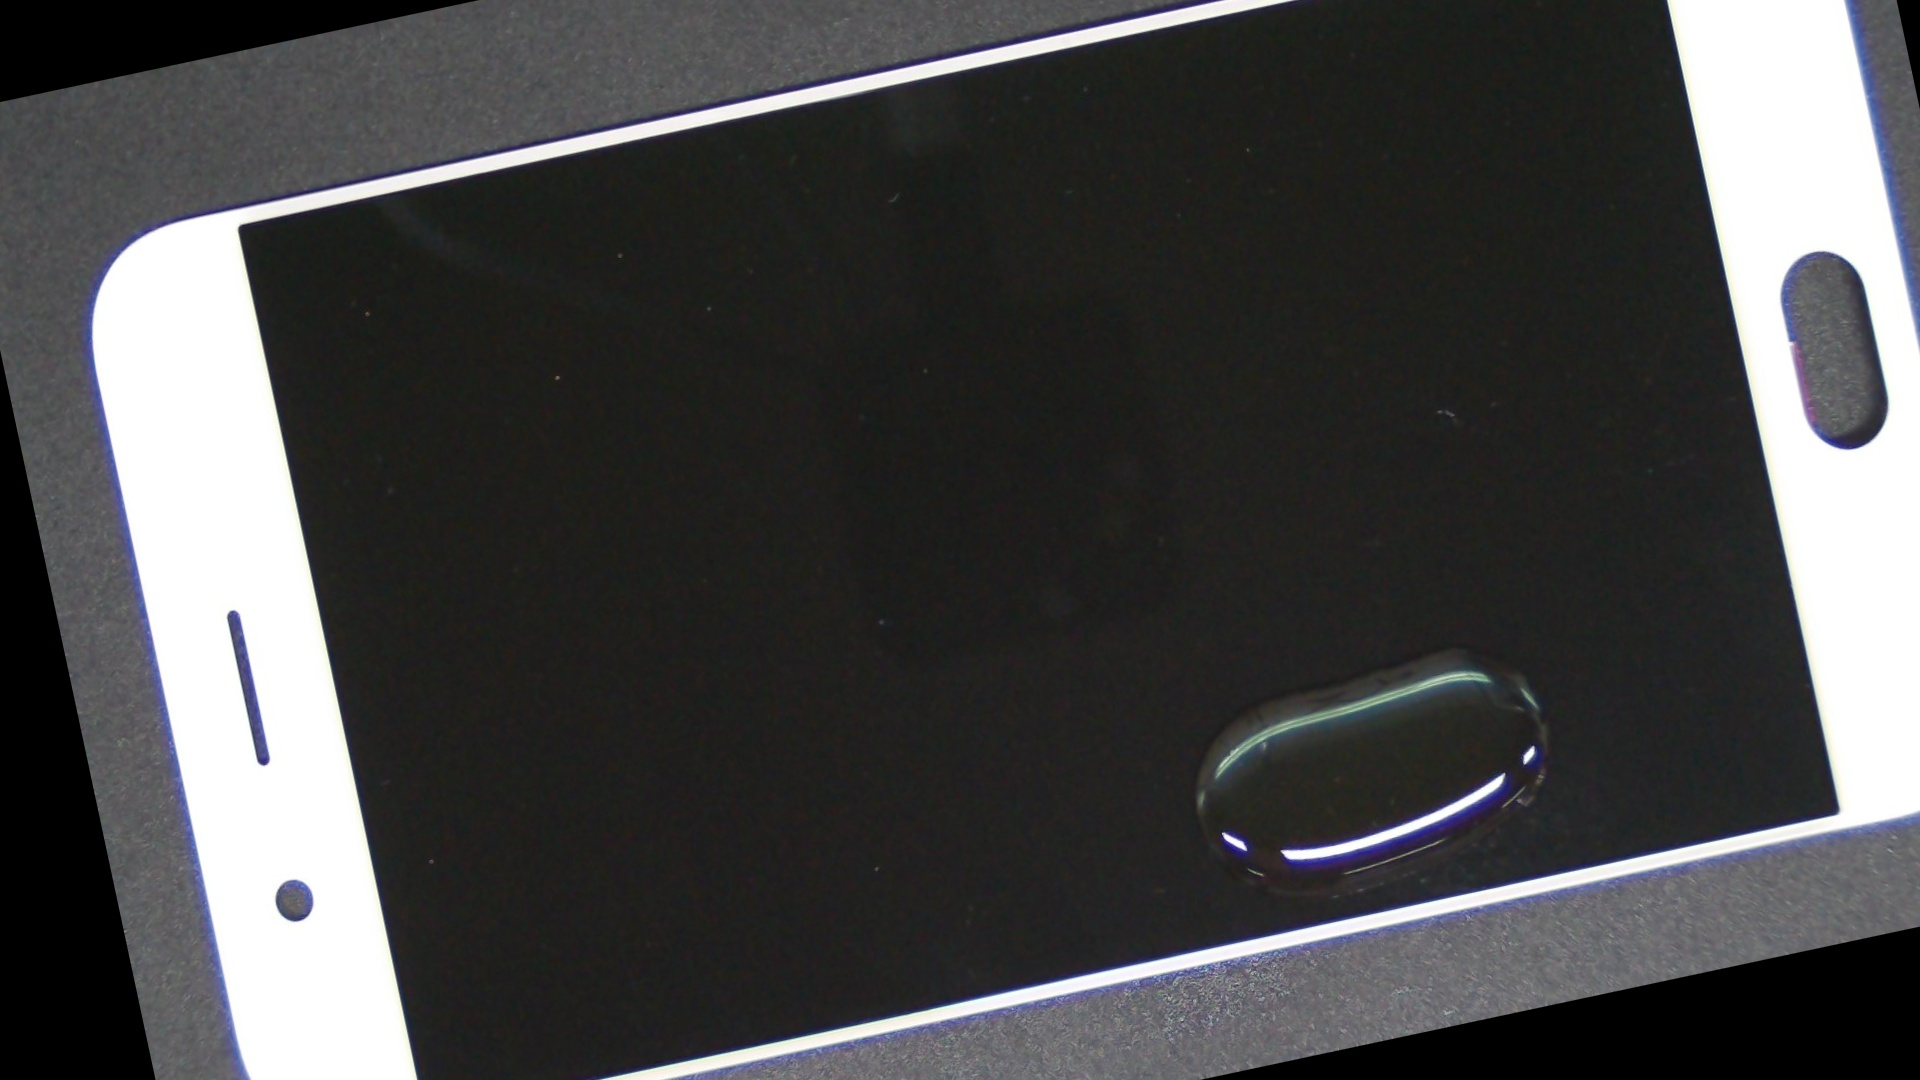oil: (698, 119, 1920, 1080)
